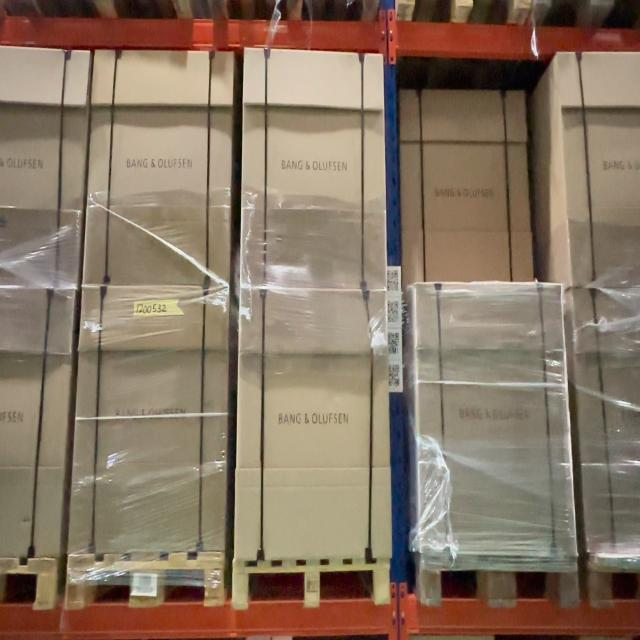box: (241, 300, 389, 554), (421, 293, 562, 552), (85, 295, 224, 549), (244, 50, 380, 288), (97, 54, 228, 291), (402, 89, 526, 279)
